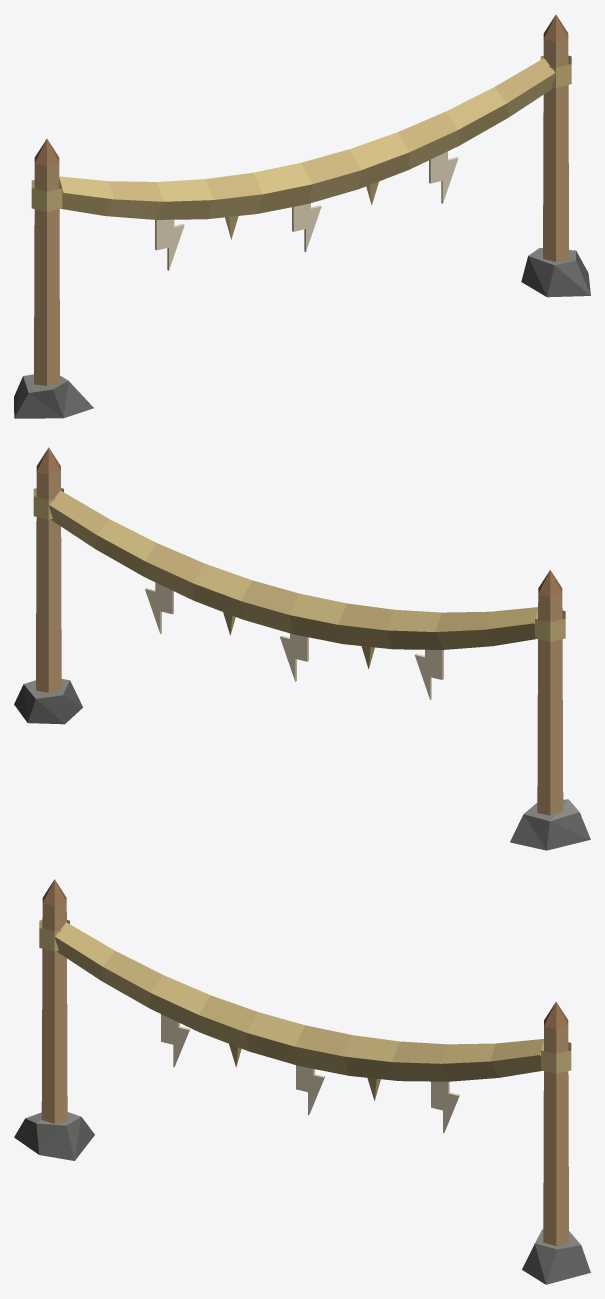
File: rope_barrier.fbx
3 renders of one model, top to bottom at view 1: azimuth 30°, elevation 25°; view 2: azimuth 150°, elevation 25°; view 3: azimuth 330°, elevation 25°, orthographic.
Visible parts, largest first — view 1: rope_barrier; view 2: rope_barrier; view 3: rope_barrier.
Part boxes in pixels (x1,y1,x2,y2): rope_barrier: (14,14,590,418); rope_barrier: (14,447,590,850); rope_barrier: (14,879,590,1284).
Bounding box in the file's own units: 3.3 × 1.46 × 0.4114.
